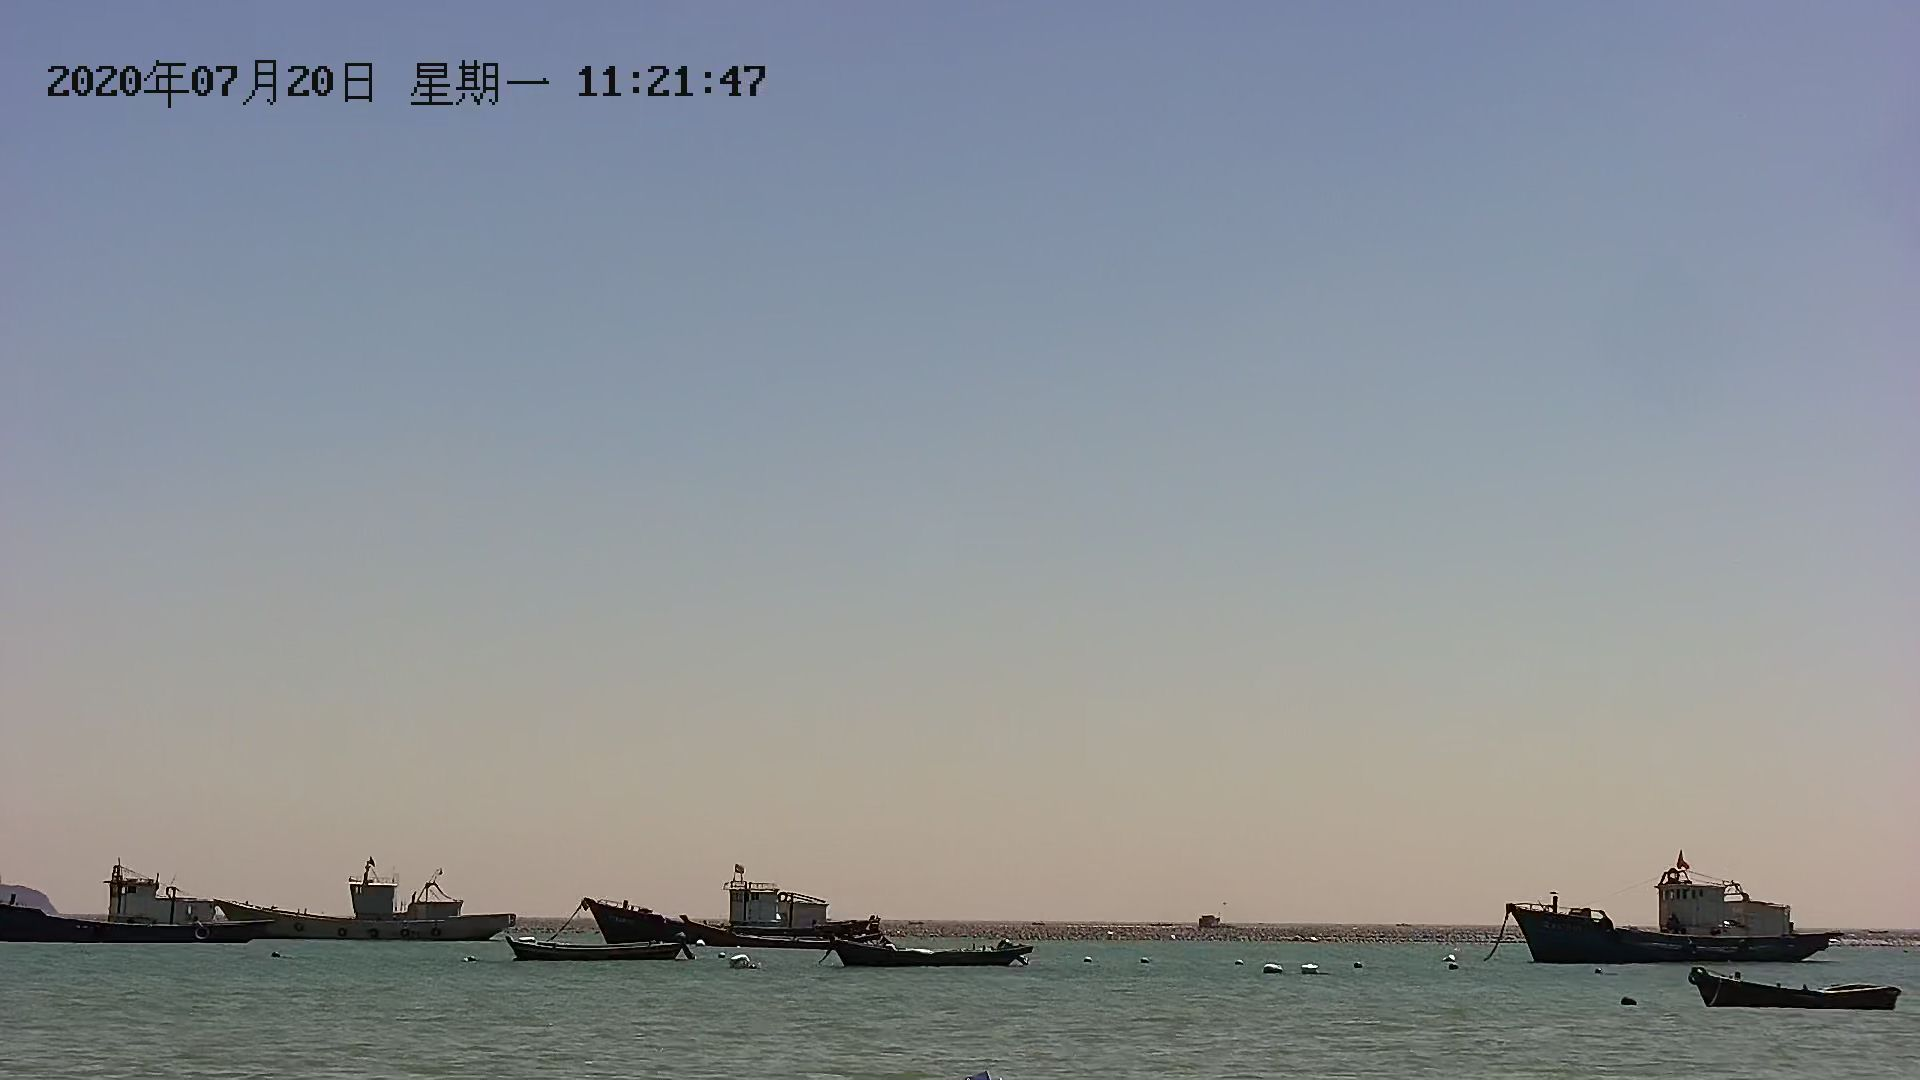boat: (1683, 963, 1902, 1017), (825, 931, 1044, 975), (492, 932, 688, 969)
rubbish: (719, 951, 767, 971), (1296, 957, 1329, 982), (1258, 956, 1292, 980)
ship: (1499, 866, 1837, 964), (223, 860, 524, 948), (576, 869, 880, 945), (1, 866, 261, 948)
